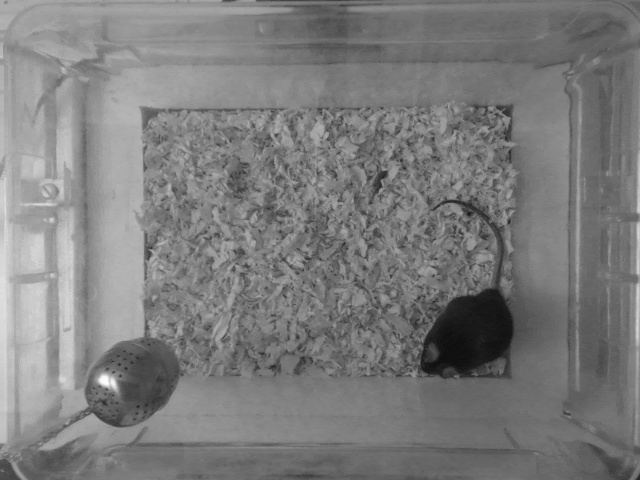mice: (417, 199, 515, 381)
